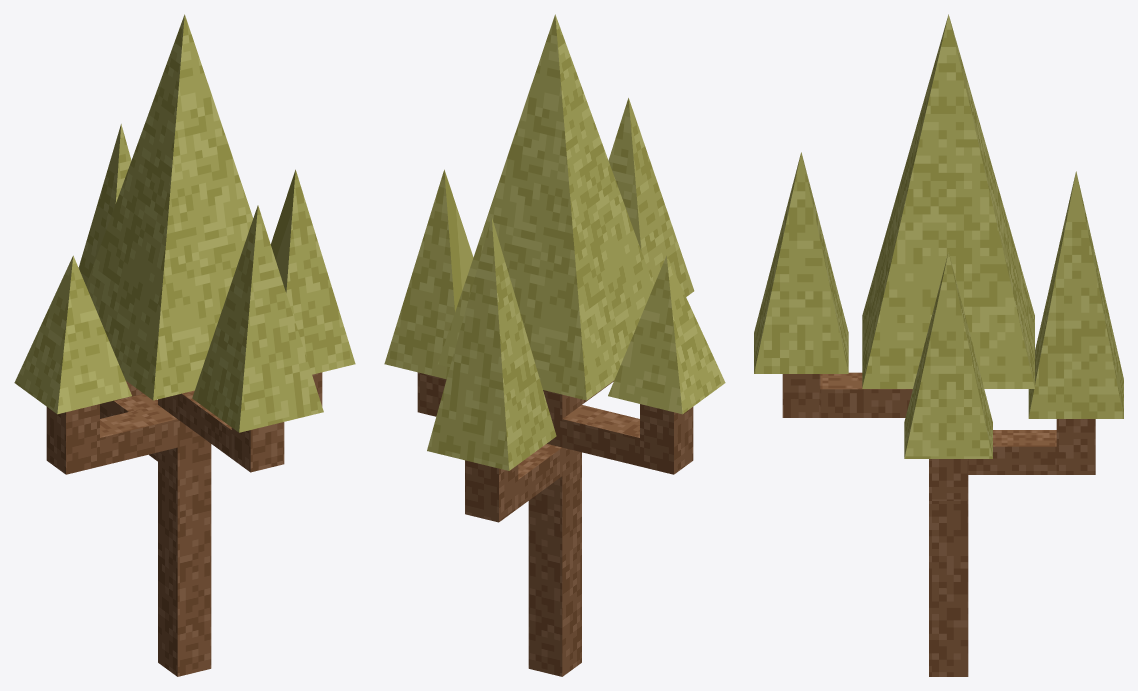
File: ArbolEgiptoModeloB.fbx
The picture shows the model from 3 angles, left to right: view 1: azimuth 30°, elevation 25°; view 2: azimuth 150°, elevation 25°; view 3: azimuth 270°, elevation 25°; orthographic projection.
Parts seen in each view (by area): view 1: Arbol2; view 2: Arbol2; view 3: Arbol2.
Part boxes in pixels (x1,y1,x2,y2): Arbol2: (14, 14, 355, 676); Arbol2: (384, 14, 725, 676); Arbol2: (754, 14, 1123, 676).
Bounding box in the file's own units: 7 × 14.63 × 7.49.
